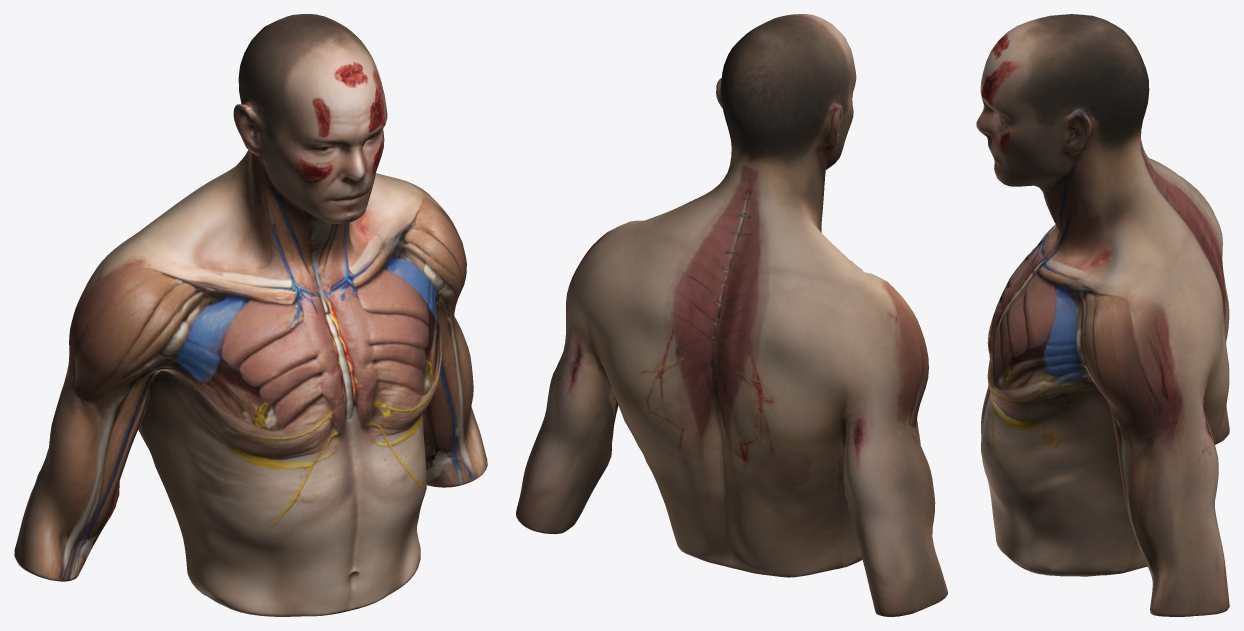
File: Gunshot_wounds_to_hum_0217145001_texture.glb
3 renders of one model, left to right at view 1: azimuth 30°, elevation 25°; view 2: azimuth 150°, elevation 25°; view 3: azimuth 270°, elevation 25°, orthographic. The views are drawn at different scales.
Bounding box in the file's own units: 1.72 × 2 × 0.8835.
1 material, 1 textured.
